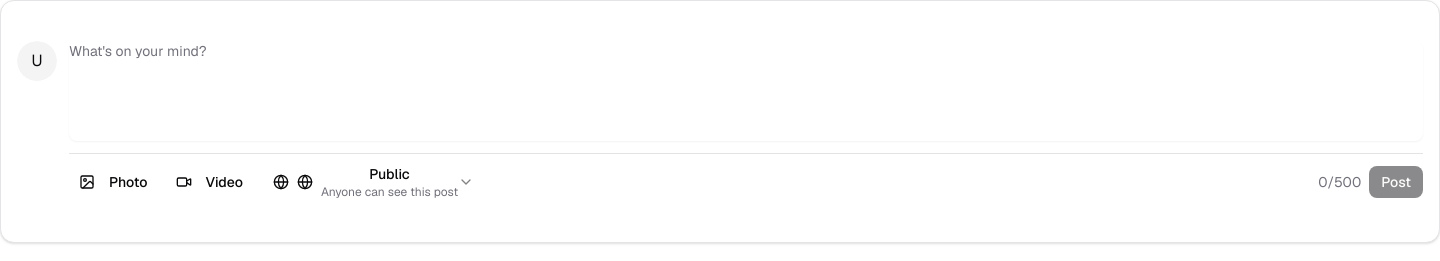
Scenario: PostComposer › updates character count as user types
Type "Hello world!" into the text box with placeholder "What's on your mind?" at (746, 91), box x1=69 y1=41 x2=1423 y2=141
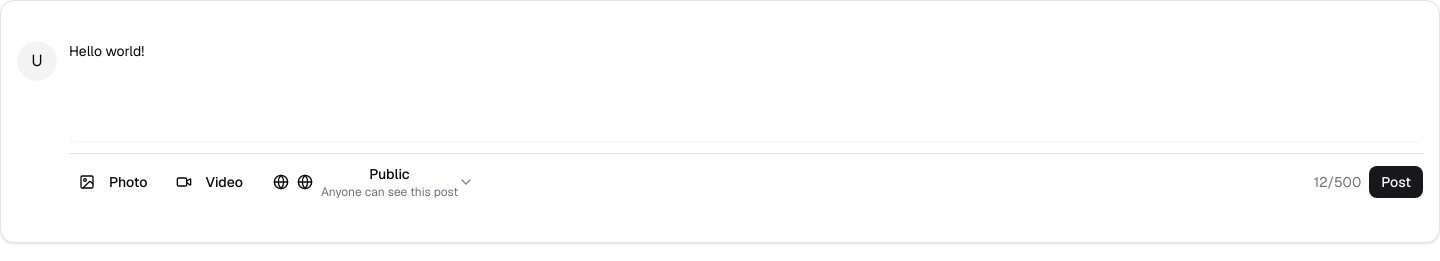
Expected: the text "12/500" is shown, x1=1314 y1=172 x2=1361 y2=192
